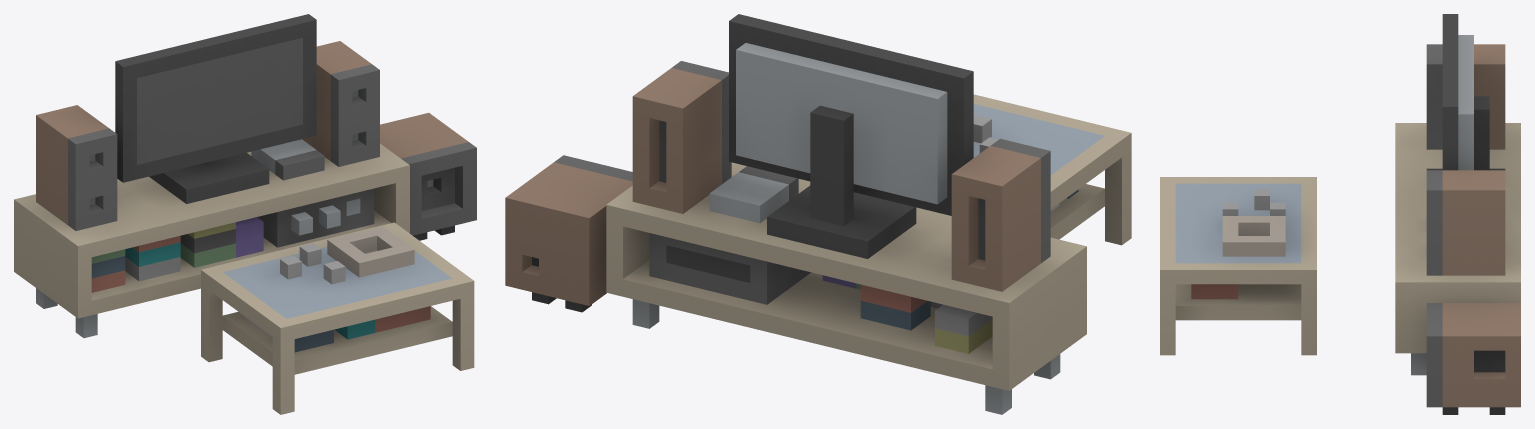
3 renders of one model, left to right at view 1: azimuth 30°, elevation 25°; view 2: azimuth 150°, elevation 25°; view 3: azimuth 270°, elevation 25°, orthographic. The views are drawn at different scales.
Parts seen in each view (by area): view 1: Geode; view 2: Geode; view 3: Geode.
Part boxes in pixels (box(x1,y1,x2,y2)): Geode: box(14, 14, 476, 414); Geode: box(505, 14, 1131, 414); Geode: box(1160, 14, 1520, 414).
Bounding box in the file's own units: 30 × 17 × 23.
